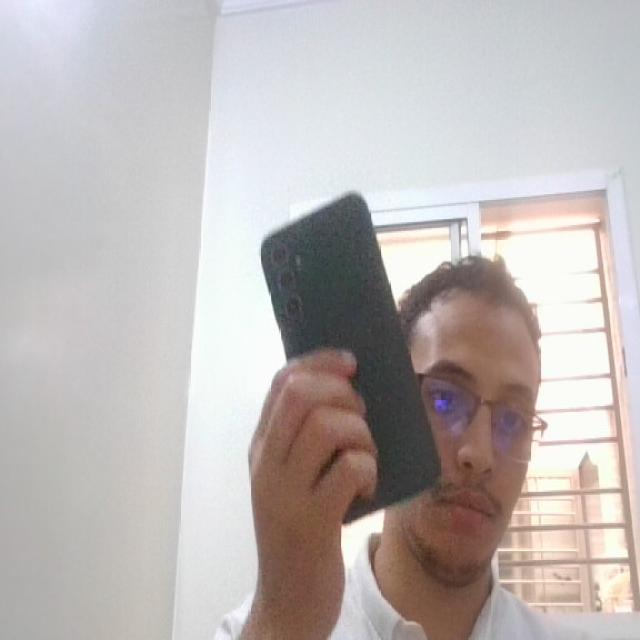phone: (248, 182, 448, 535)
